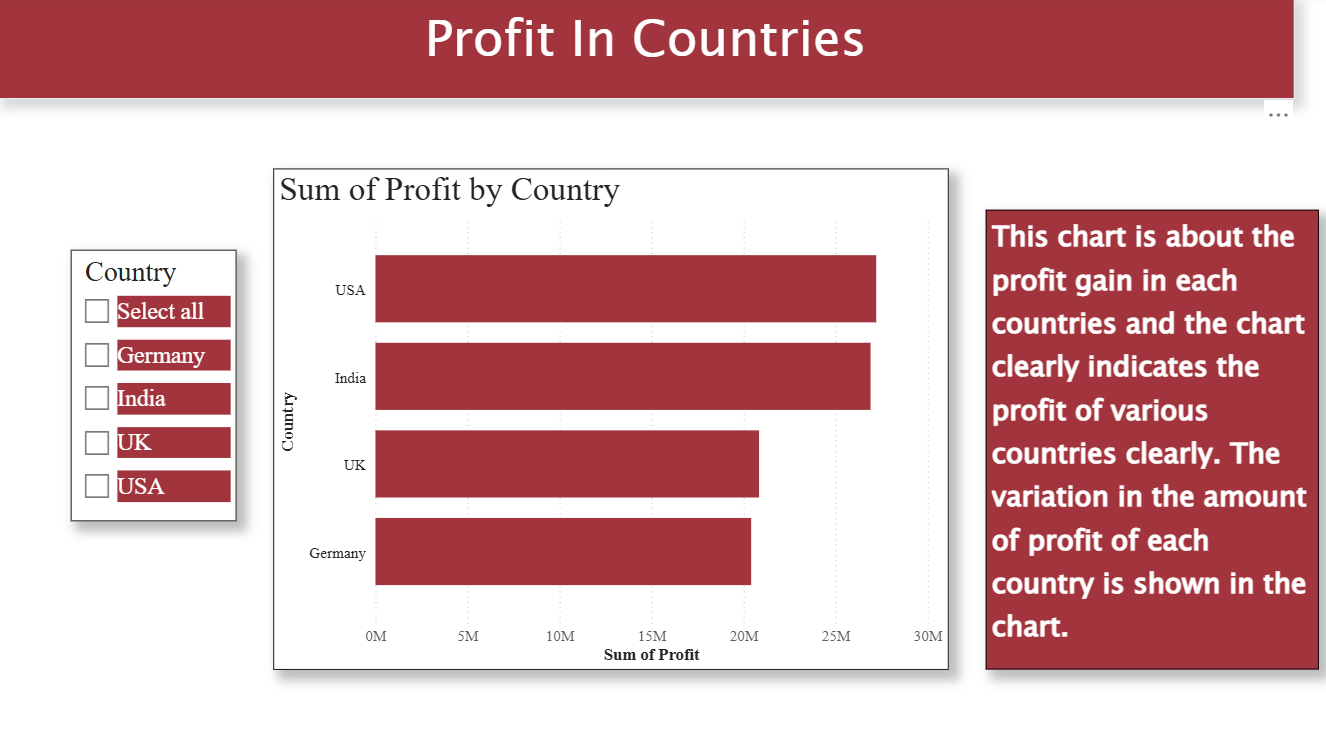

The page's visual inventory and layout, read from the dashboard file:
{"tool":"powerbi","page":{"name":"city and sales","canvas":[1280,720],"ordinal":2},"visuals":[{"type":"slicer","fields":{"Values":["Product_Sales_Dataset.Country"]},"box":[71.4,244.3,159.2,260.7],"z":1000},{"type":"textbox","box":[0,0,1246,98.8],"z":2000},{"type":"clusteredBarChart","fields":{"Y":["Sum(Product_Sales_Dataset.Profit)"],"Category":["Product_Sales_Dataset.Country"]},"box":[264.8,166,649.1,481.6],"z":2001},{"type":"textbox","box":[949.6,205.8,319.7,441.9],"z":2002}]}

Visuals, with their boxes in screenshot pixels (x1, y1, x2, y2), scaled from the page's 1280x720 canvas onto the 1326x744 screenshot:
slicer - Product_Sales_Dataset.Country: 74, 252, 239, 522
textbox: 0, 0, 1291, 102
clusteredBarChart - Sum(Product_Sales_Dataset.Profit) x Product_Sales_Dataset.Country: 274, 172, 947, 669
textbox: 984, 213, 1315, 669
